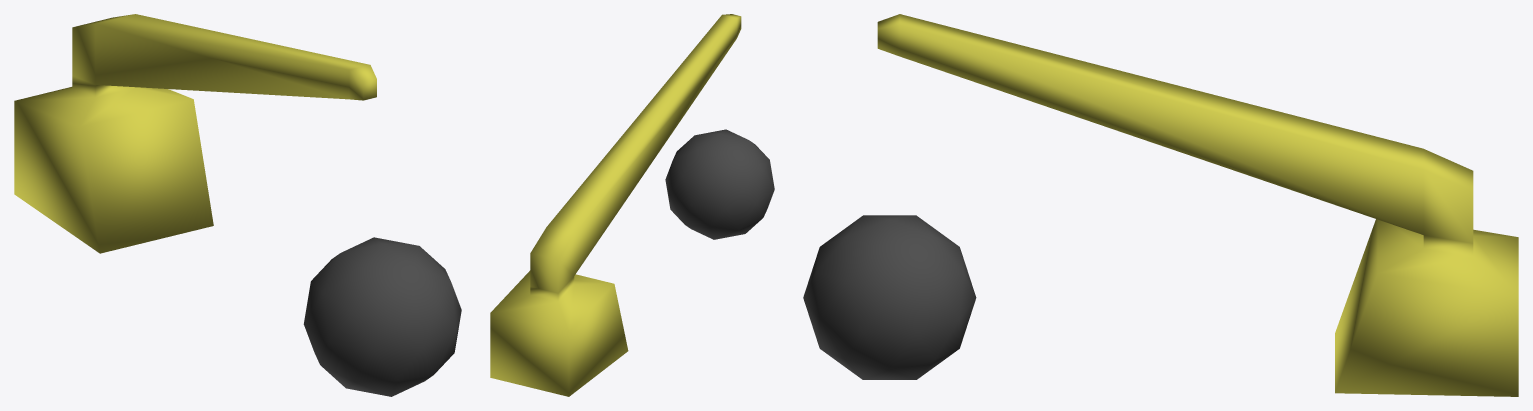
File: pendulum.fbx
3 renders of one model, left to right at view 1: azimuth 30°, elevation 25°; view 2: azimuth 150°, elevation 25°; view 3: azimuth 270°, elevation 25°, orthographic. The views are drawn at different scales.
Parts seen in each view (by area): view 1: Cube, Icosphere; view 2: Cube, Icosphere; view 3: Cube, Icosphere.
Boxes of the visible parts, x1,y1,x2,y2 form: Cube: (14, 14, 376, 253); Icosphere: (303, 237, 461, 396); Cube: (490, 14, 741, 396); Icosphere: (665, 129, 774, 239); Cube: (877, 14, 1518, 396); Icosphere: (803, 215, 976, 379).
Bounding box in the file's own units: 7.07 × 15.46 × 28.85.
